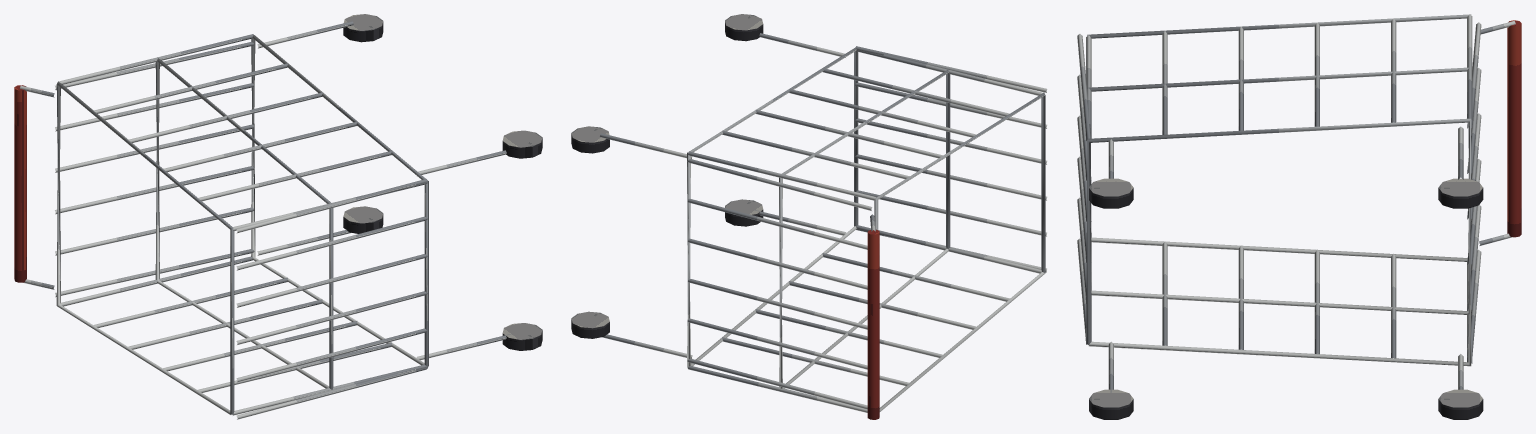
Rendered from ABN_ShoppingCart_Overturned.glb.
3 views of the same model, side by side, from view 1: azimuth 30°, elevation 25°; view 2: azimuth 150°, elevation 25°; view 3: azimuth 270°, elevation 25° (orthographic). The views are drawn at different scales.
Visible parts, largest first — view 1: ABN_ShoppingCart_Overturned_Mesh; view 2: ABN_ShoppingCart_Overturned_Mesh; view 3: ABN_ShoppingCart_Overturned_Mesh.
Part boxes in pixels (x1,y1,x2,y2): ABN_ShoppingCart_Overturned_Mesh: (14, 14, 542, 419); ABN_ShoppingCart_Overturned_Mesh: (571, 14, 1047, 419); ABN_ShoppingCart_Overturned_Mesh: (1077, 14, 1521, 419).
Size of what is drawn, in the model's own units: 0.9636 by 0.612 by 0.992.
1 material, 1 textured.
